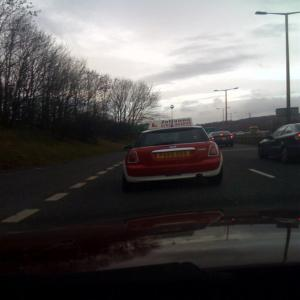Vehicle-registration-plate: (154, 152, 190, 160)
